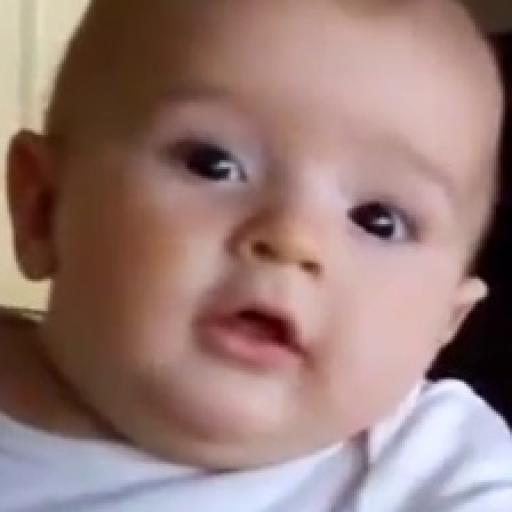Autism: (39, 7, 512, 459)
